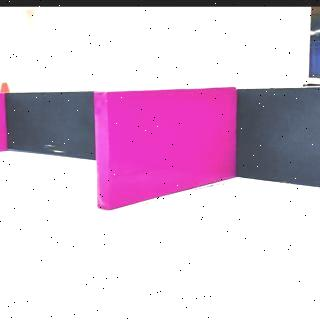xparking: (96, 92, 237, 194)
